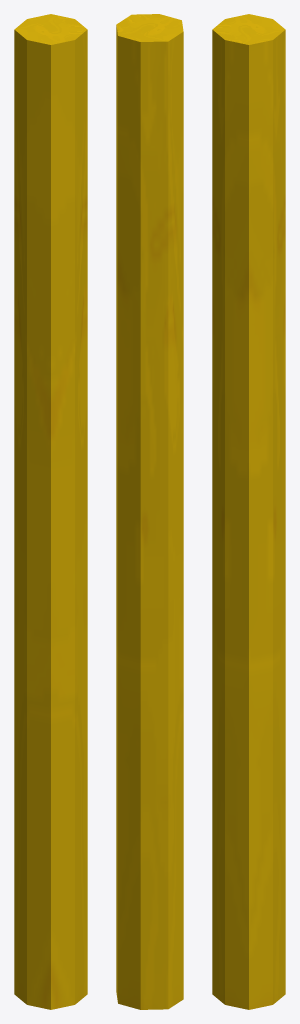
The model's file is chandelier_2.fbx.
3 views of the same model, side by side, from view 1: azimuth 90°, elevation 25°; view 2: azimuth 210°, elevation 25°; view 3: azimuth 270°, elevation 25° (orthographic).
Parts seen in each view (by area): view 1: Cube.001; view 2: Cube.001; view 3: Cube.001.
Part boxes in pixels (left/top/right/bottom): Cube.001: left=14, top=14, right=87, bottom=1009; Cube.001: left=116, top=14, right=183, bottom=1009; Cube.001: left=212, top=14, right=285, bottom=1009.
Size of the model in its own units: 31.41 by 454 by 31.25.
